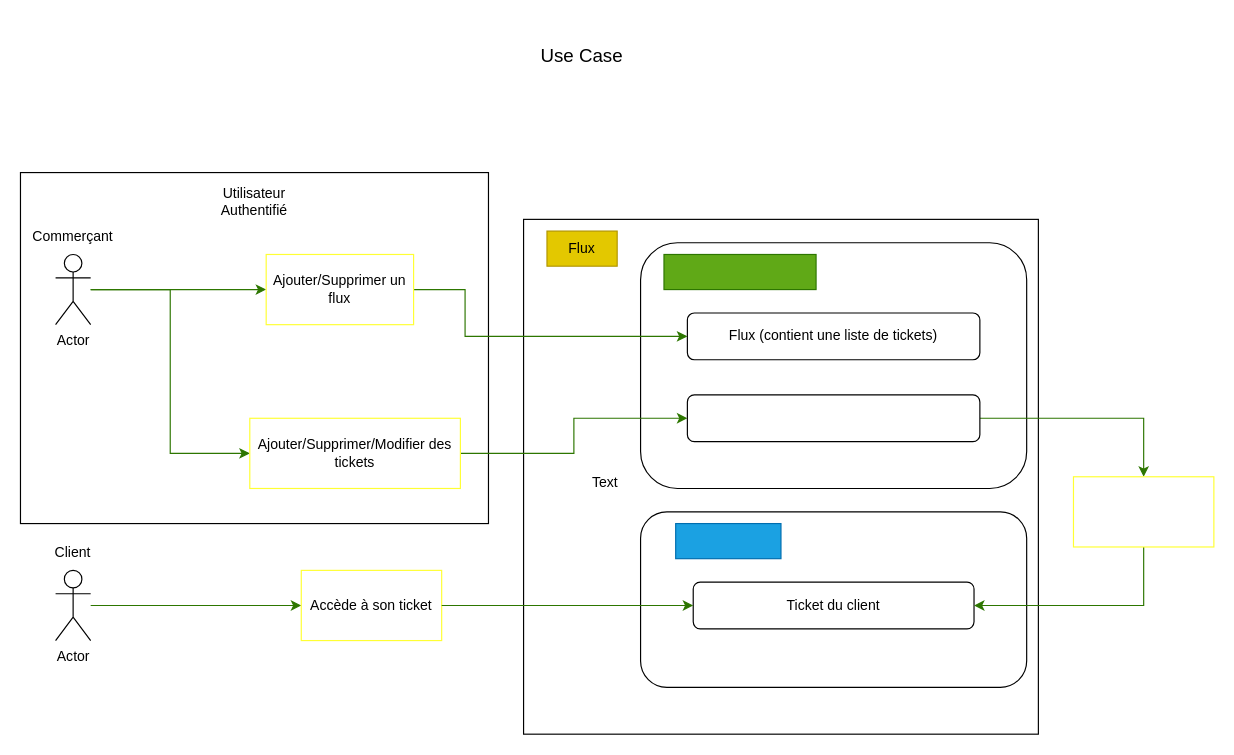
Some shapes in this 1234 by 755 pixel diagram are drawn without their labels. Here are the shapes that lost their labels. From the top down, the centre of each, then its label:
point (739, 271): Interface Commerçant
point (833, 418): Tickets (Liste de tickets d'un flux)
point (1143, 511): Accède au statut de son ticket
point (728, 540): Interface Client
